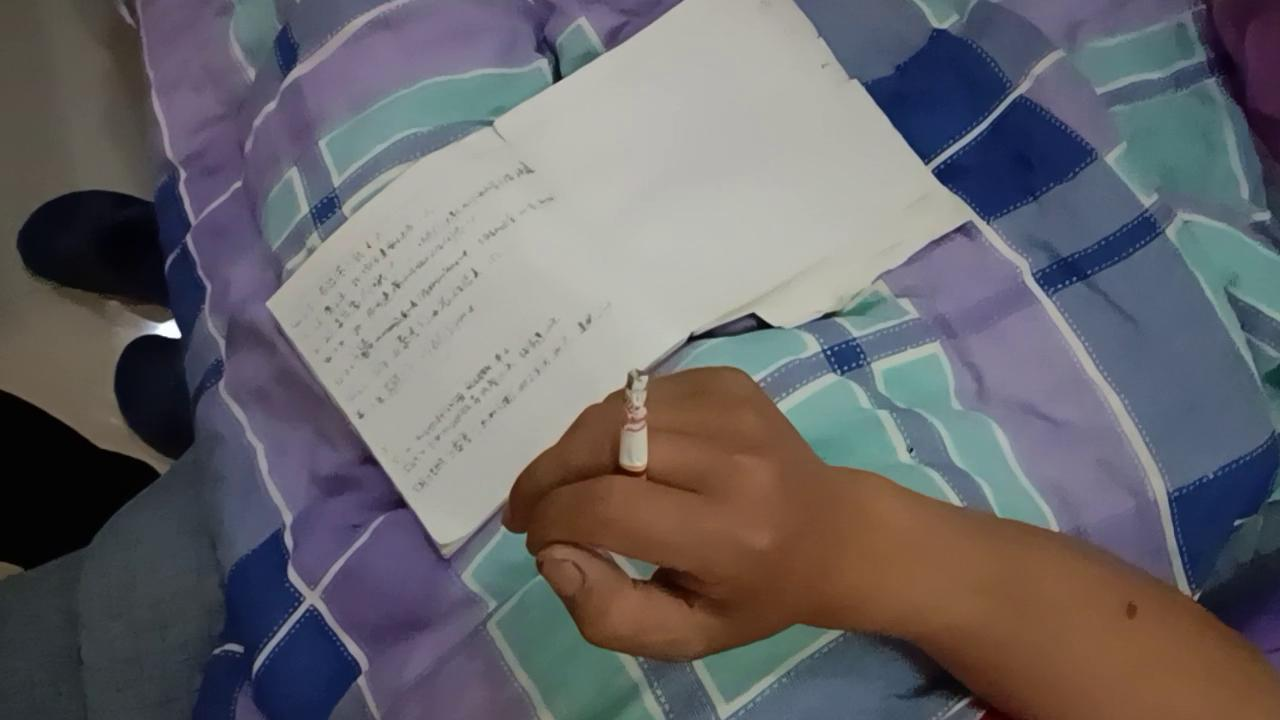smoke: (614, 369, 652, 506)
